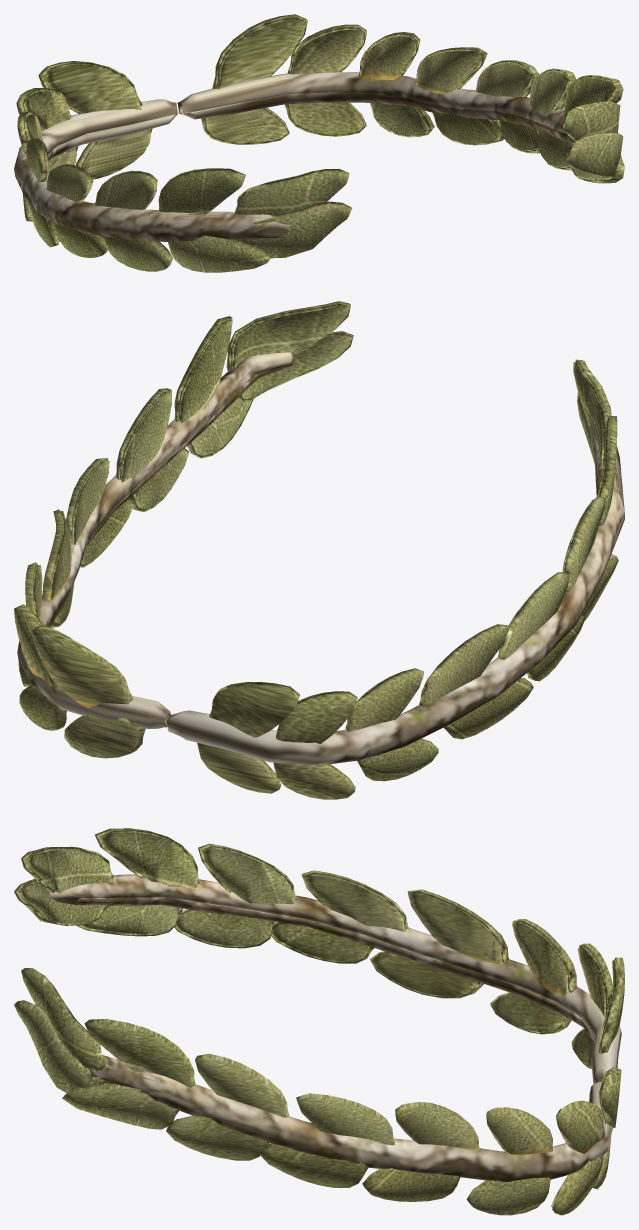
File: laurel wreath.fbx
The picture shows the model from 3 angles, top to bottom: view 1: azimuth 30°, elevation 25°; view 2: azimuth 150°, elevation 25°; view 3: azimuth 270°, elevation 25°; orthographic projection. The views are drawn at different scales.
Parts seen in each view (by area): view 1: laurel wreath; view 2: laurel wreath; view 3: laurel wreath.
Part boxes in pixels (bbox=[...]): laurel wreath: bbox=[14, 14, 624, 272]; laurel wreath: bbox=[14, 301, 624, 799]; laurel wreath: bbox=[14, 828, 624, 1215].
Size of the model in its own units: 29.88 by 13.84 by 33.22.
